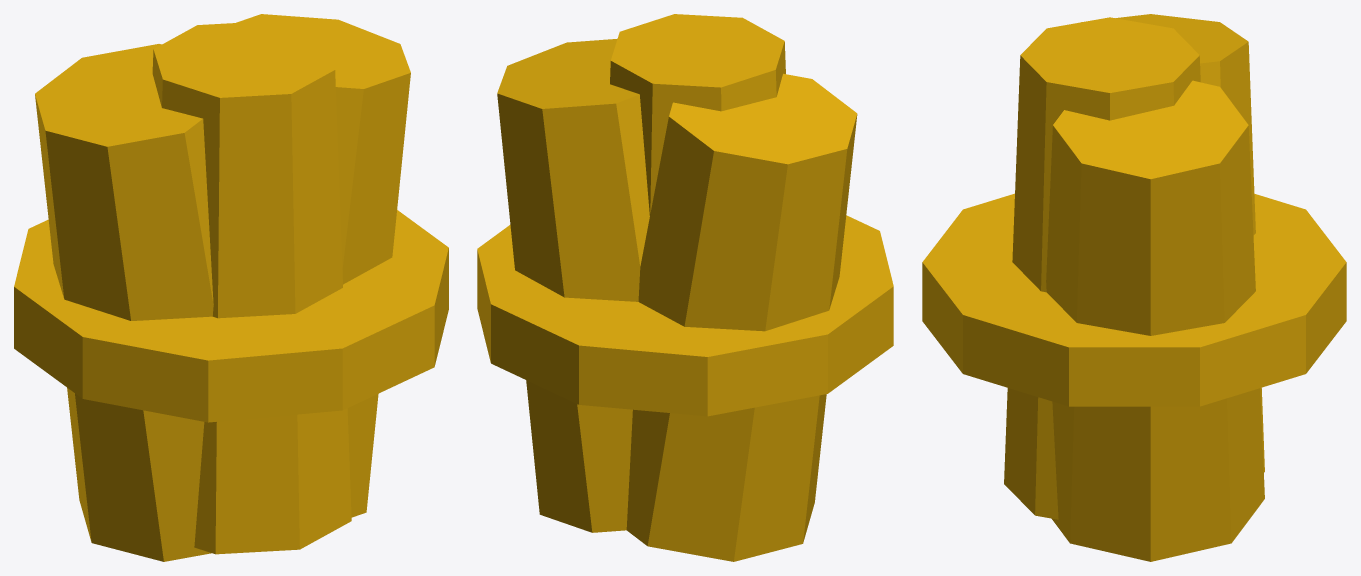
File: wheat.glb
3 views of the same model, side by side, from view 1: azimuth 30°, elevation 25°; view 2: azimuth 150°, elevation 25°; view 3: azimuth 270°, elevation 25° (orthographic). The views are drawn at different scales.
Parts seen in each view (by area): view 1: WheatMesh; view 2: WheatMesh; view 3: WheatMesh.
Boxes of the visible parts, box(x1,y1,x2,y2) form: WheatMesh: box(14, 14, 448, 561); WheatMesh: box(477, 14, 893, 561); WheatMesh: box(922, 14, 1346, 561).
Size of the model in its own units: 0.4945 by 0.6028 by 0.52.
